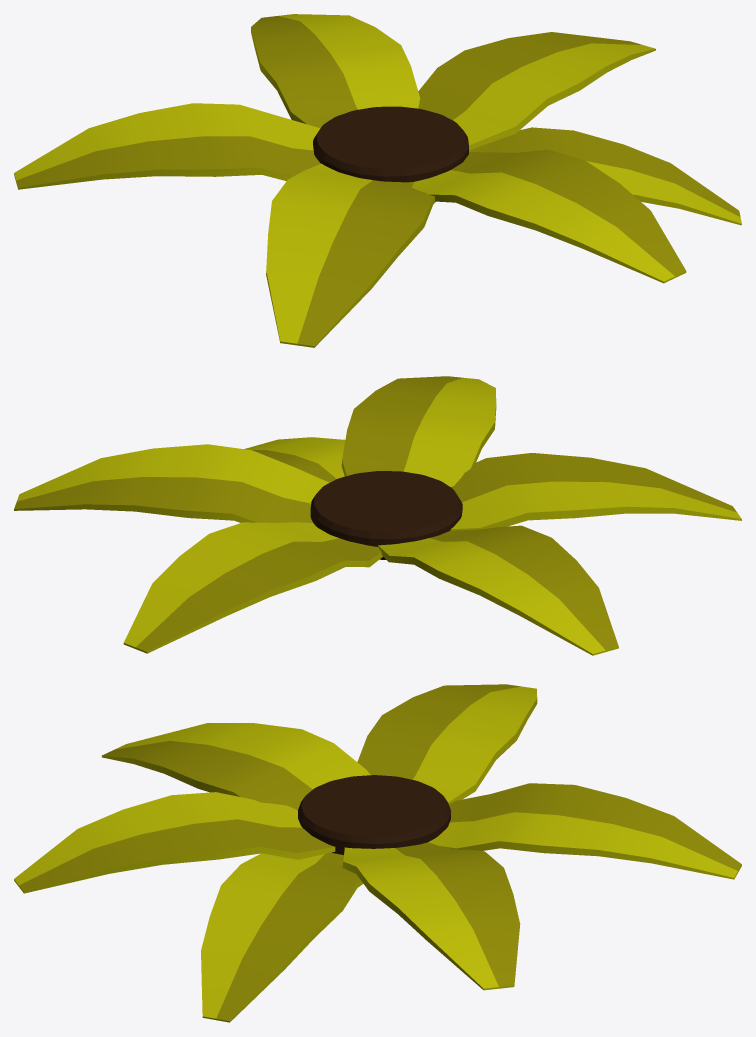
File: V2_Flower.fbx
The picture shows the model from 3 angles, top to bottom: view 1: azimuth 30°, elevation 25°; view 2: azimuth 150°, elevation 25°; view 3: azimuth 270°, elevation 25°; orthographic projection. The views are drawn at different scales.
Visible parts, largest first — view 1: v3Sunflower; view 2: v3Sunflower; view 3: v3Sunflower.
Part boxes in pixels (box(x1,y1,x2,y2)): v3Sunflower: box(14, 14, 741, 347); v3Sunflower: box(14, 376, 741, 655); v3Sunflower: box(14, 684, 741, 1022).
Bounding box in the file's own units: 5.19 × 0.7936 × 5.33.
